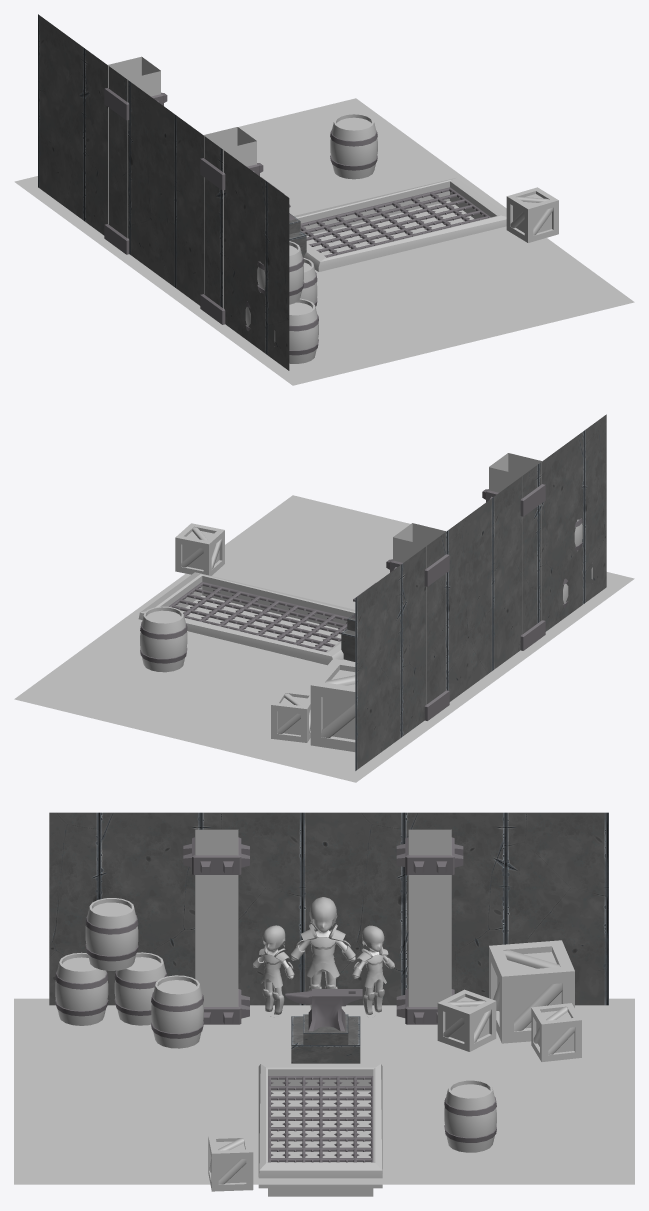
The model's file is Blacksmith.fbx.
3 renders of one model, top to bottom at view 1: azimuth 30°, elevation 25°; view 2: azimuth 150°, elevation 25°; view 3: azimuth 270°, elevation 25°, orthographic. The views are drawn at different scales.
Visible parts, largest first — view 1: Plane.002, Cube.004, Cube.003, Plane.004, Cylinder.005, Cube.002, Cube.011, Cube.009, Plane.003, Cylinder.001, Cylinder.003, Cylinder.002; view 2: Plane.002, Cube.004, Cube.003, Plane.004, Cube.007, Cylinder.005, Cube.011, Cube.002, Cube.009, Cube.008, Plane.003; view 3: Plane.002, Cube.004, Cube.011, Cube.002, Cube.003, Cube.007, Plane.004, Plane.003, Cylinder.003, Cylinder.002, Cylinder.005, Cylinder.001 (+11 smaller).
Part boxes in pixels (x1,y1,x2,y2): Plane.002: [14, 98, 634, 385]; Cube.004: [38, 14, 289, 370]; Cube.003: [294, 177, 506, 271]; Plane.004: [300, 187, 490, 257]; Cylinder.005: [330, 113, 377, 179]; Cube.002: [200, 127, 263, 324]; Cube.011: [104, 56, 167, 254]; Cube.009: [506, 187, 558, 242]; Plane.003: [306, 201, 473, 255]; Cylinder.001: [274, 298, 318, 363]; Cylinder.003: [257, 241, 304, 304]; Cylinder.002: [300, 258, 317, 306]; Plane.002: [14, 495, 634, 782]; Cube.004: [355, 414, 606, 770]; Cube.003: [138, 572, 355, 665]; Plane.004: [168, 582, 348, 651]; Cube.007: [310, 658, 355, 751]; Cylinder.005: [140, 606, 187, 672]; Cube.011: [386, 523, 449, 720]; Cube.002: [482, 453, 545, 650]; Cube.009: [175, 523, 224, 575]; Cube.008: [271, 689, 310, 742]; Plane.003: [181, 595, 344, 650]; Plane.002: [14, 998, 634, 1184]; Cube.004: [49, 812, 608, 1005]; Cube.011: [396, 829, 463, 1024]; Cube.002: [183, 829, 249, 1024]; Cube.003: [258, 1063, 382, 1196]; Cube.007: [489, 940, 574, 1043]; Plane.004: [268, 1076, 373, 1162]; Plane.003: [271, 1091, 370, 1162]; Cylinder.003: [85, 898, 138, 970]; Cylinder.002: [151, 975, 203, 1048]; Cylinder.005: [444, 1079, 496, 1152]; Cylinder.001: [55, 952, 108, 1025].
Bounding box in the file's own units: 8.35 × 3.25 × 6.13.
